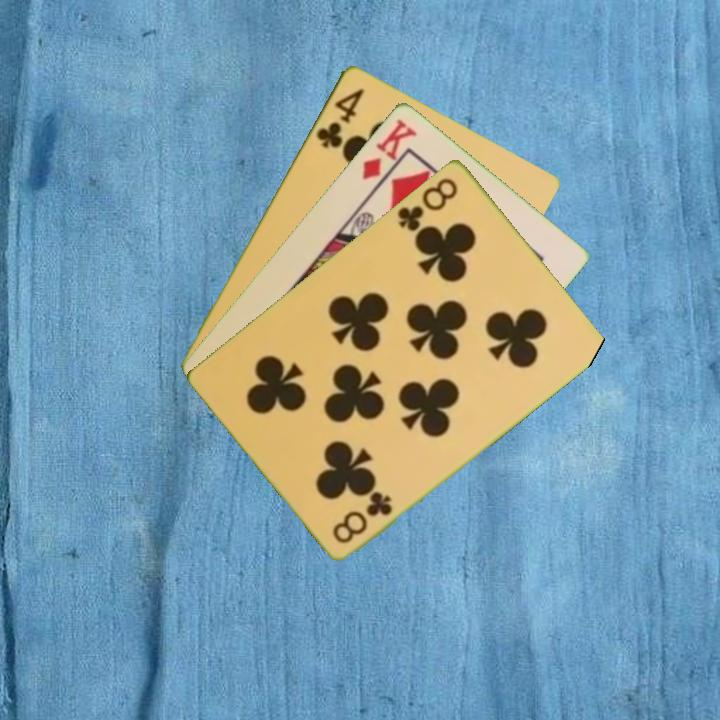4c: (312, 84, 367, 151)
8c: (394, 173, 461, 234), (328, 487, 396, 546)
Kd: (358, 114, 421, 182)
